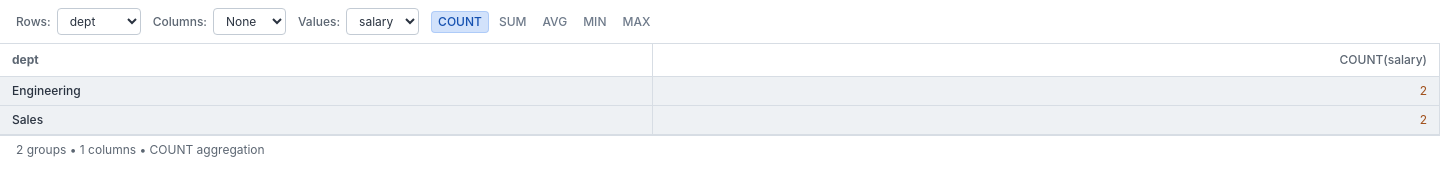
Test: PivotTable › clicking MIN button changes aggregation
Click the button "MIN": click(595, 22) [577, 12, 612, 32]
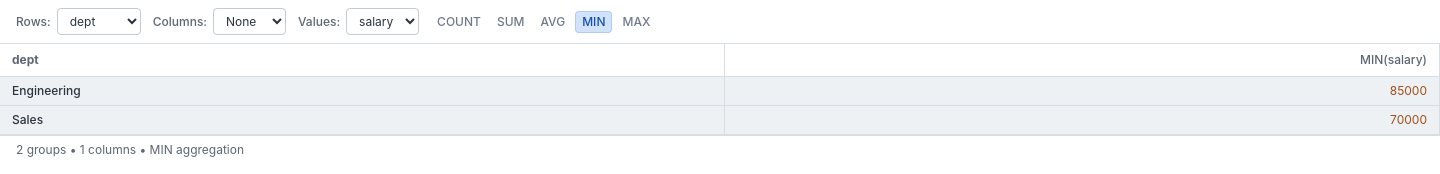
expect the text "MIN aggregation" is shown: met, box [16, 142, 244, 157]
